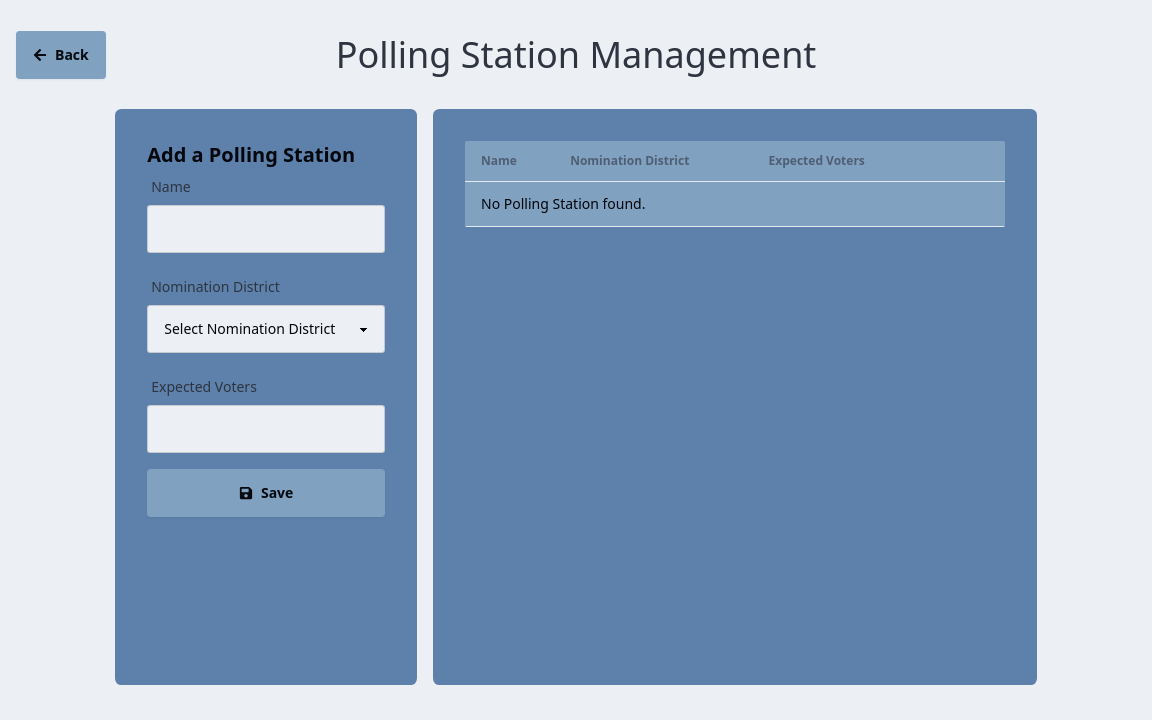
Scenario: PollingStationScreen › should give toast error with negative expected voters
Type "Abe-station" into the field with id "name". click: (266,229)
box: left=147, top=205, right=385, bottom=253
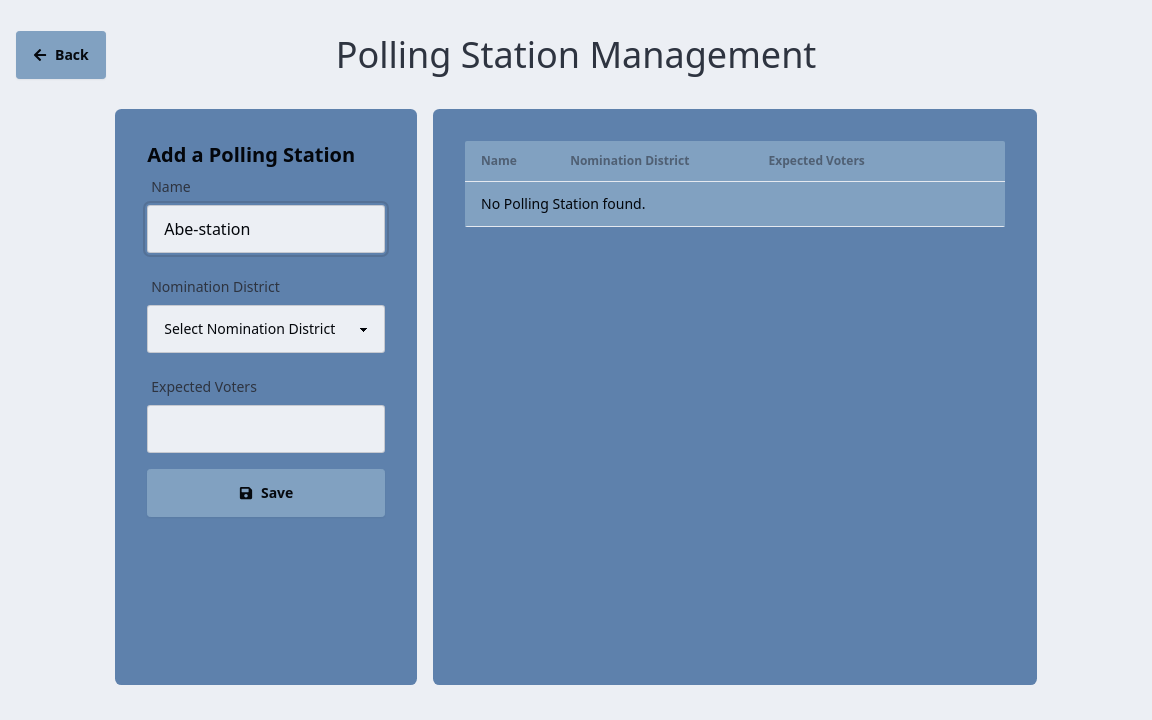
Select "Banan-distriktet" in the dropdown with id "nominationDistrict". click: (266,329)
box: left=147, top=305, right=385, bottom=353
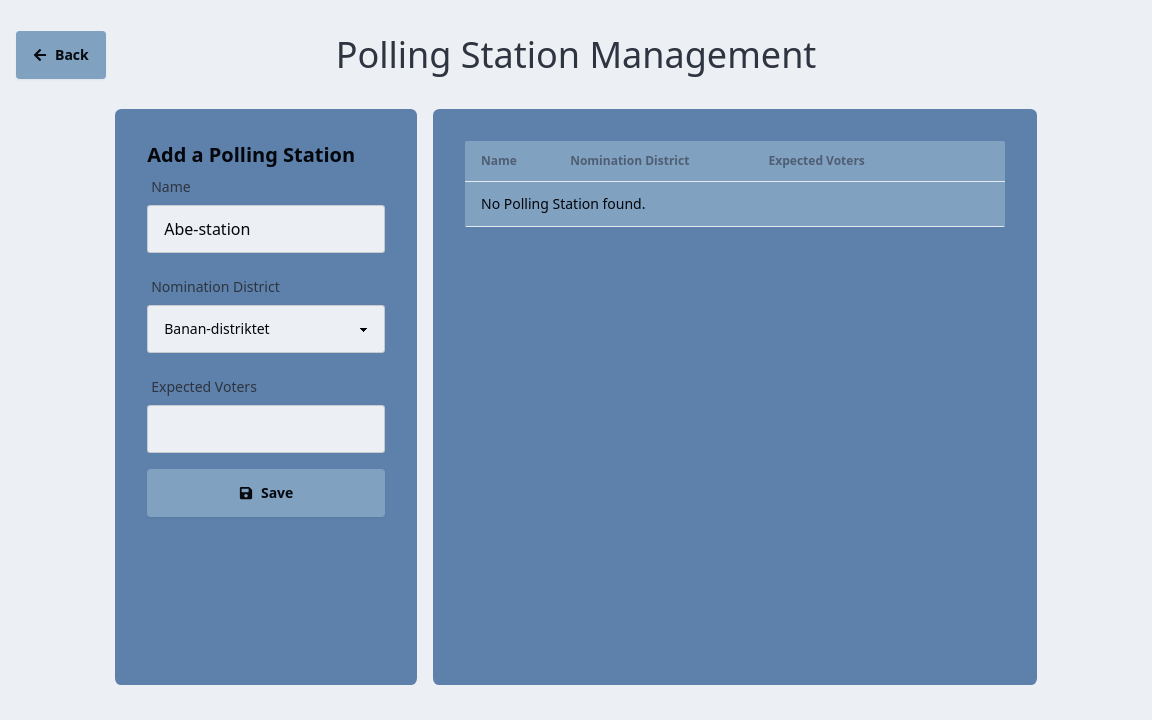
Type "-1000" into the number field with id "expectedVoters". click: (266,429)
box: left=147, top=405, right=385, bottom=453
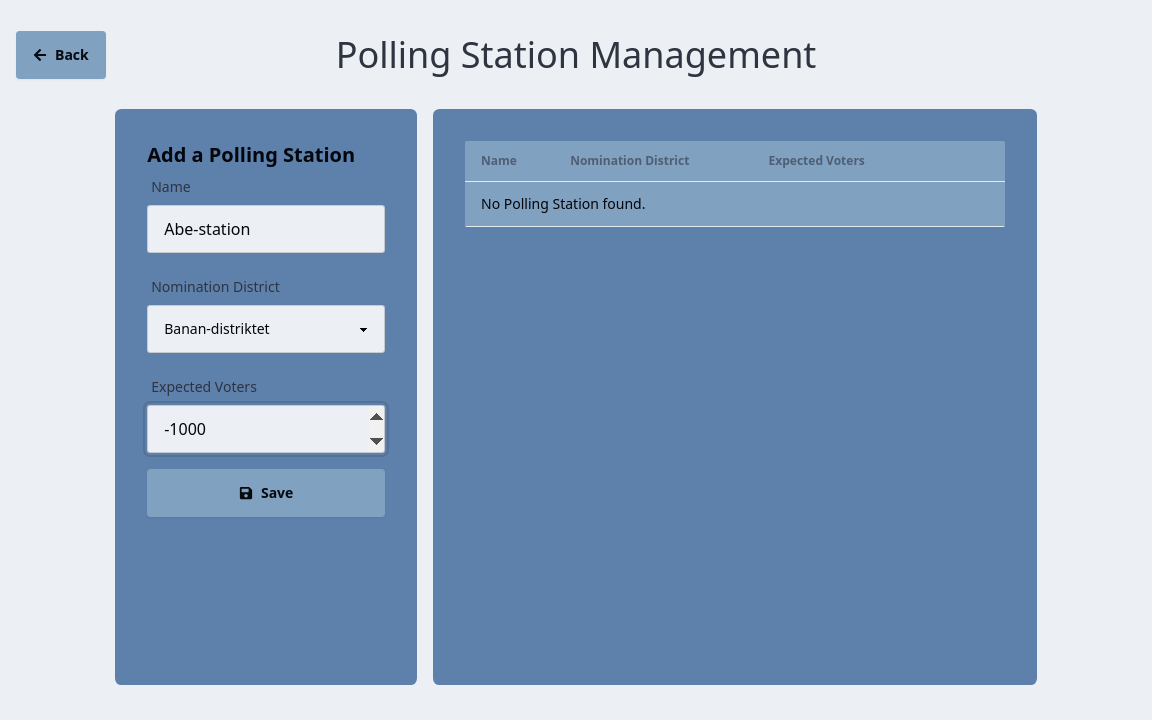
Click the submit button. click: (266,493)
box: left=147, top=469, right=385, bottom=517
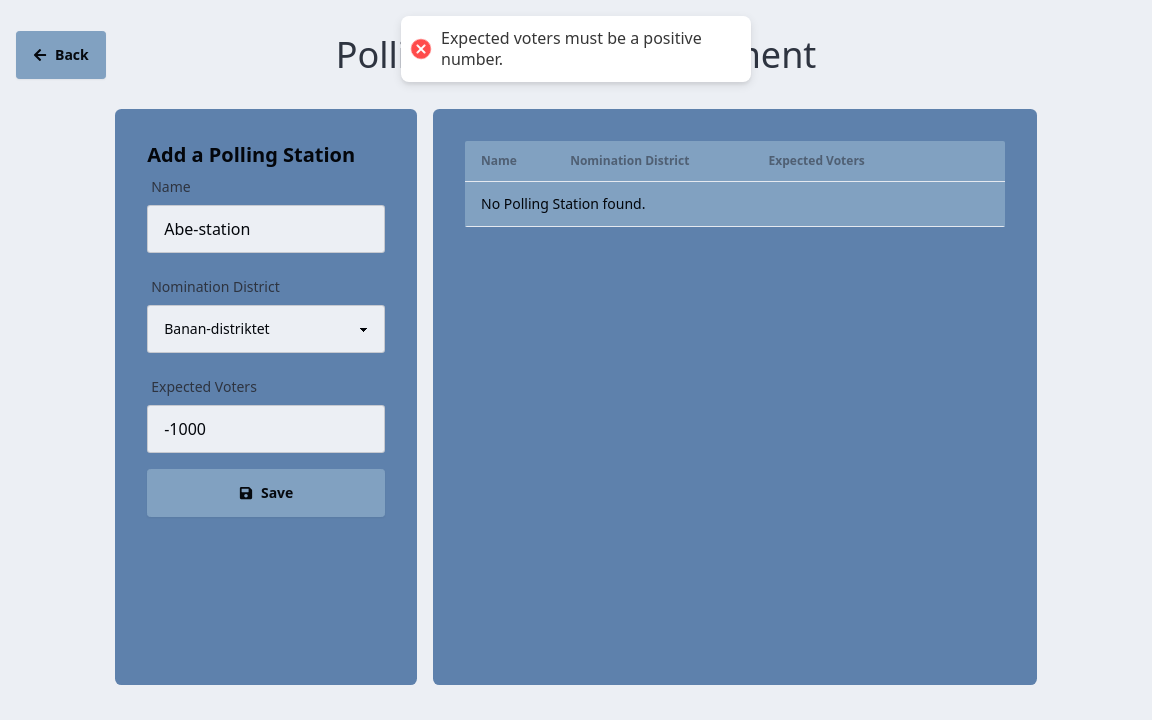
Expected: the text "Expected voters must be a positive number." is shown, left=441, top=28, right=731, bottom=70
